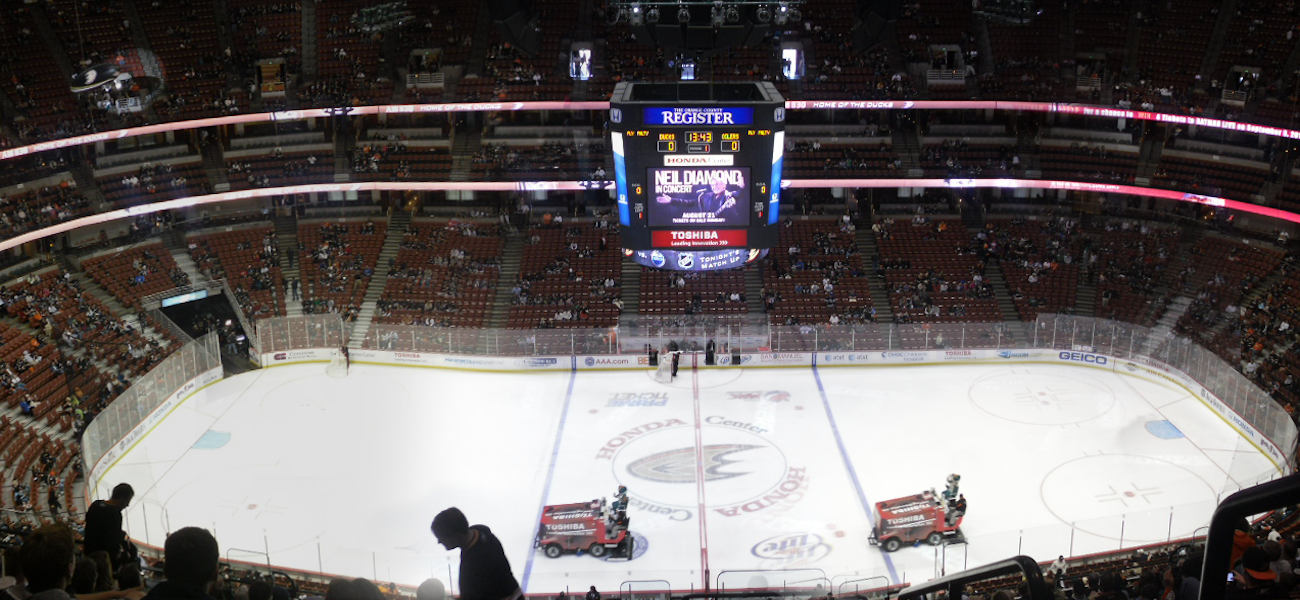Geico: (1057, 350, 1108, 371)
